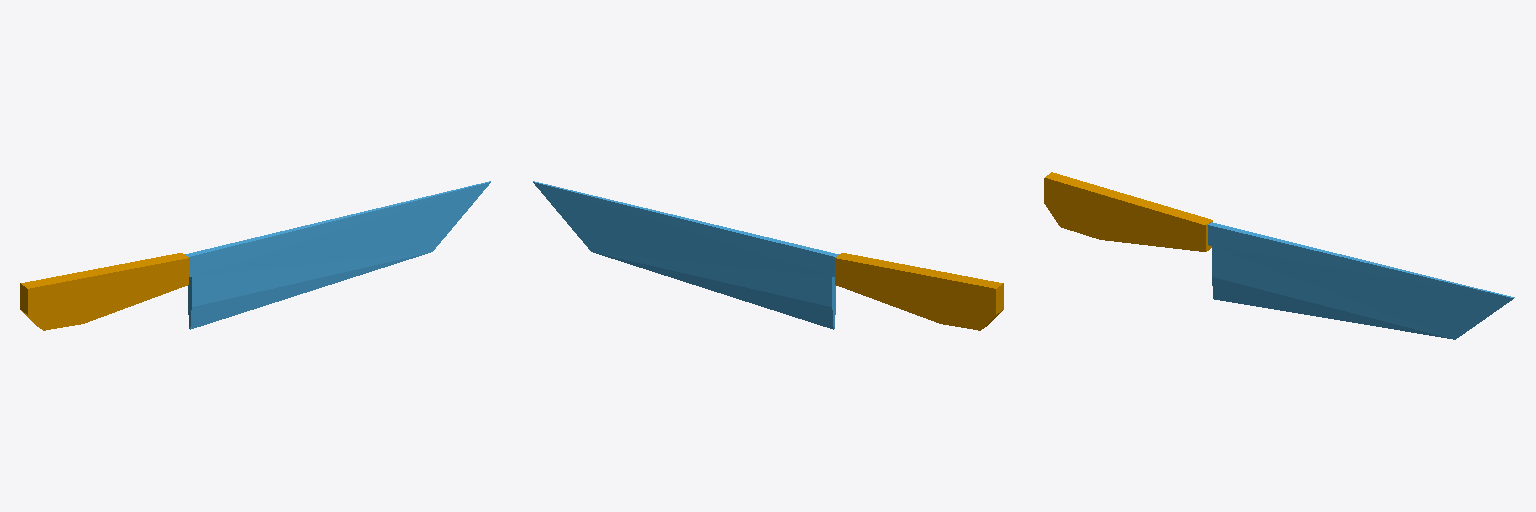
The robot description file, URDF, robot "cooking_knife":
<?xml version="1.0"?>
<robot name="cooking_knife">
  <link name="handle">
    <inertial>
        <origin rpy="0 0 0" xyz="0 0 0"/>
        <mass value="0.01"/>
        <inertia ixx="4.4e-5" ixy="0" ixz="0" iyy="0" iyz="0" izz="4.4e-5"/>
    </inertial>
    <visual>
      <geometry>
        <mesh filename="handle.obj"/>
      </geometry>
    </visual>
    <collision>
      <geometry>
        <mesh filename="handle.obj"/>
      </geometry>
      <surface>
           <bounce restitution_coefficient = "0.1"/>
      </surface>
    </collision>
  </link>
  <link name="blade">
    <inertial>
        <origin rpy="0 0 0" xyz="0 0 0"/>
        <mass value="0.01"/>
        <inertia ixx="1.9e-5" ixy="0" ixz="0" iyy="6.8e-6" iyz="0" izz="1.2e-5"/>
    </inertial>
    <visual>
      <geometry>
        <mesh filename="blade.obj"/>
      </geometry>
    </visual>
    <collision>
      <geometry>
        <mesh filename="blade.obj"/>
      </geometry>
      <surface>
           <bounce restitution_coefficient = "0.1"/>
      </surface>
    </collision>
  </link>
  <joint name="handle_to_blade" type="fixed">
    <parent link="handle"/>
    <child link="blade"/>
    <origin rpy="0 0 0" xyz="0.272 0 -0.02"/>
  </joint>
</robot>

--- Facts derived from the render (not from the file) ---
Views: 3 orthographic renders of the robot side by side, from view 1: azimuth 30°, elevation 25°; view 2: azimuth 150°, elevation 25°; view 3: azimuth 330°, elevation 25°.
Robot: cooking_knife — 2 links, 1 joints (1 fixed); root link handle; default pose: all joints at 0.
Visible links, largest first — view 1: blade, handle; view 2: blade, handle; view 3: blade, handle.
Link boxes in pixels (left/top/right/bottom): blade: left=185, top=181, right=490, bottom=329; handle: left=20, top=253, right=188, bottom=330; blade: left=533, top=181, right=838, bottom=329; handle: left=835, top=253, right=1003, bottom=330; blade: left=1208, top=222, right=1514, bottom=339; handle: left=1044, top=172, right=1212, bottom=251.
Size in the robot's own frame: 0.7226 by 0.02 by 0.1238 metres.
Meshes: 2 distinct files referenced, 2 mesh visuals loaded (2 OBJ).
